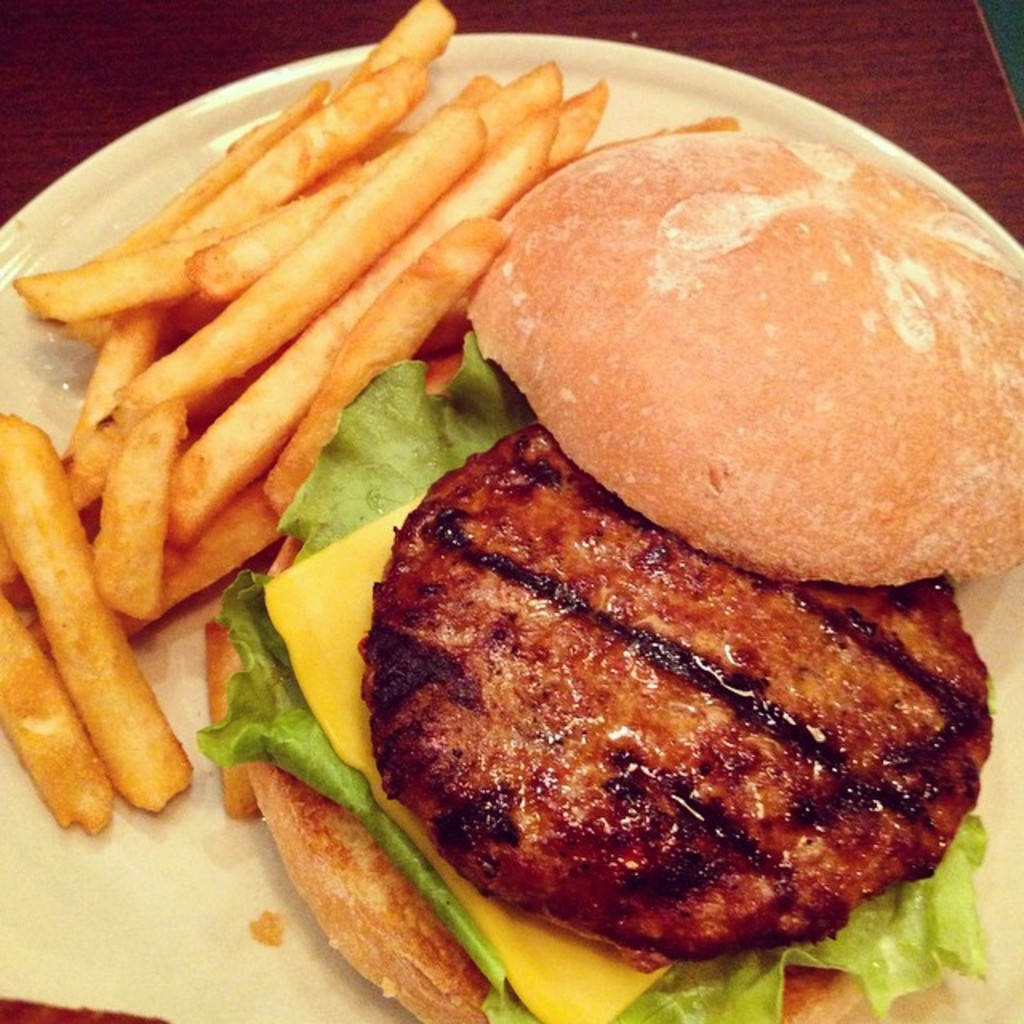French fries: (0, 0, 750, 838)
